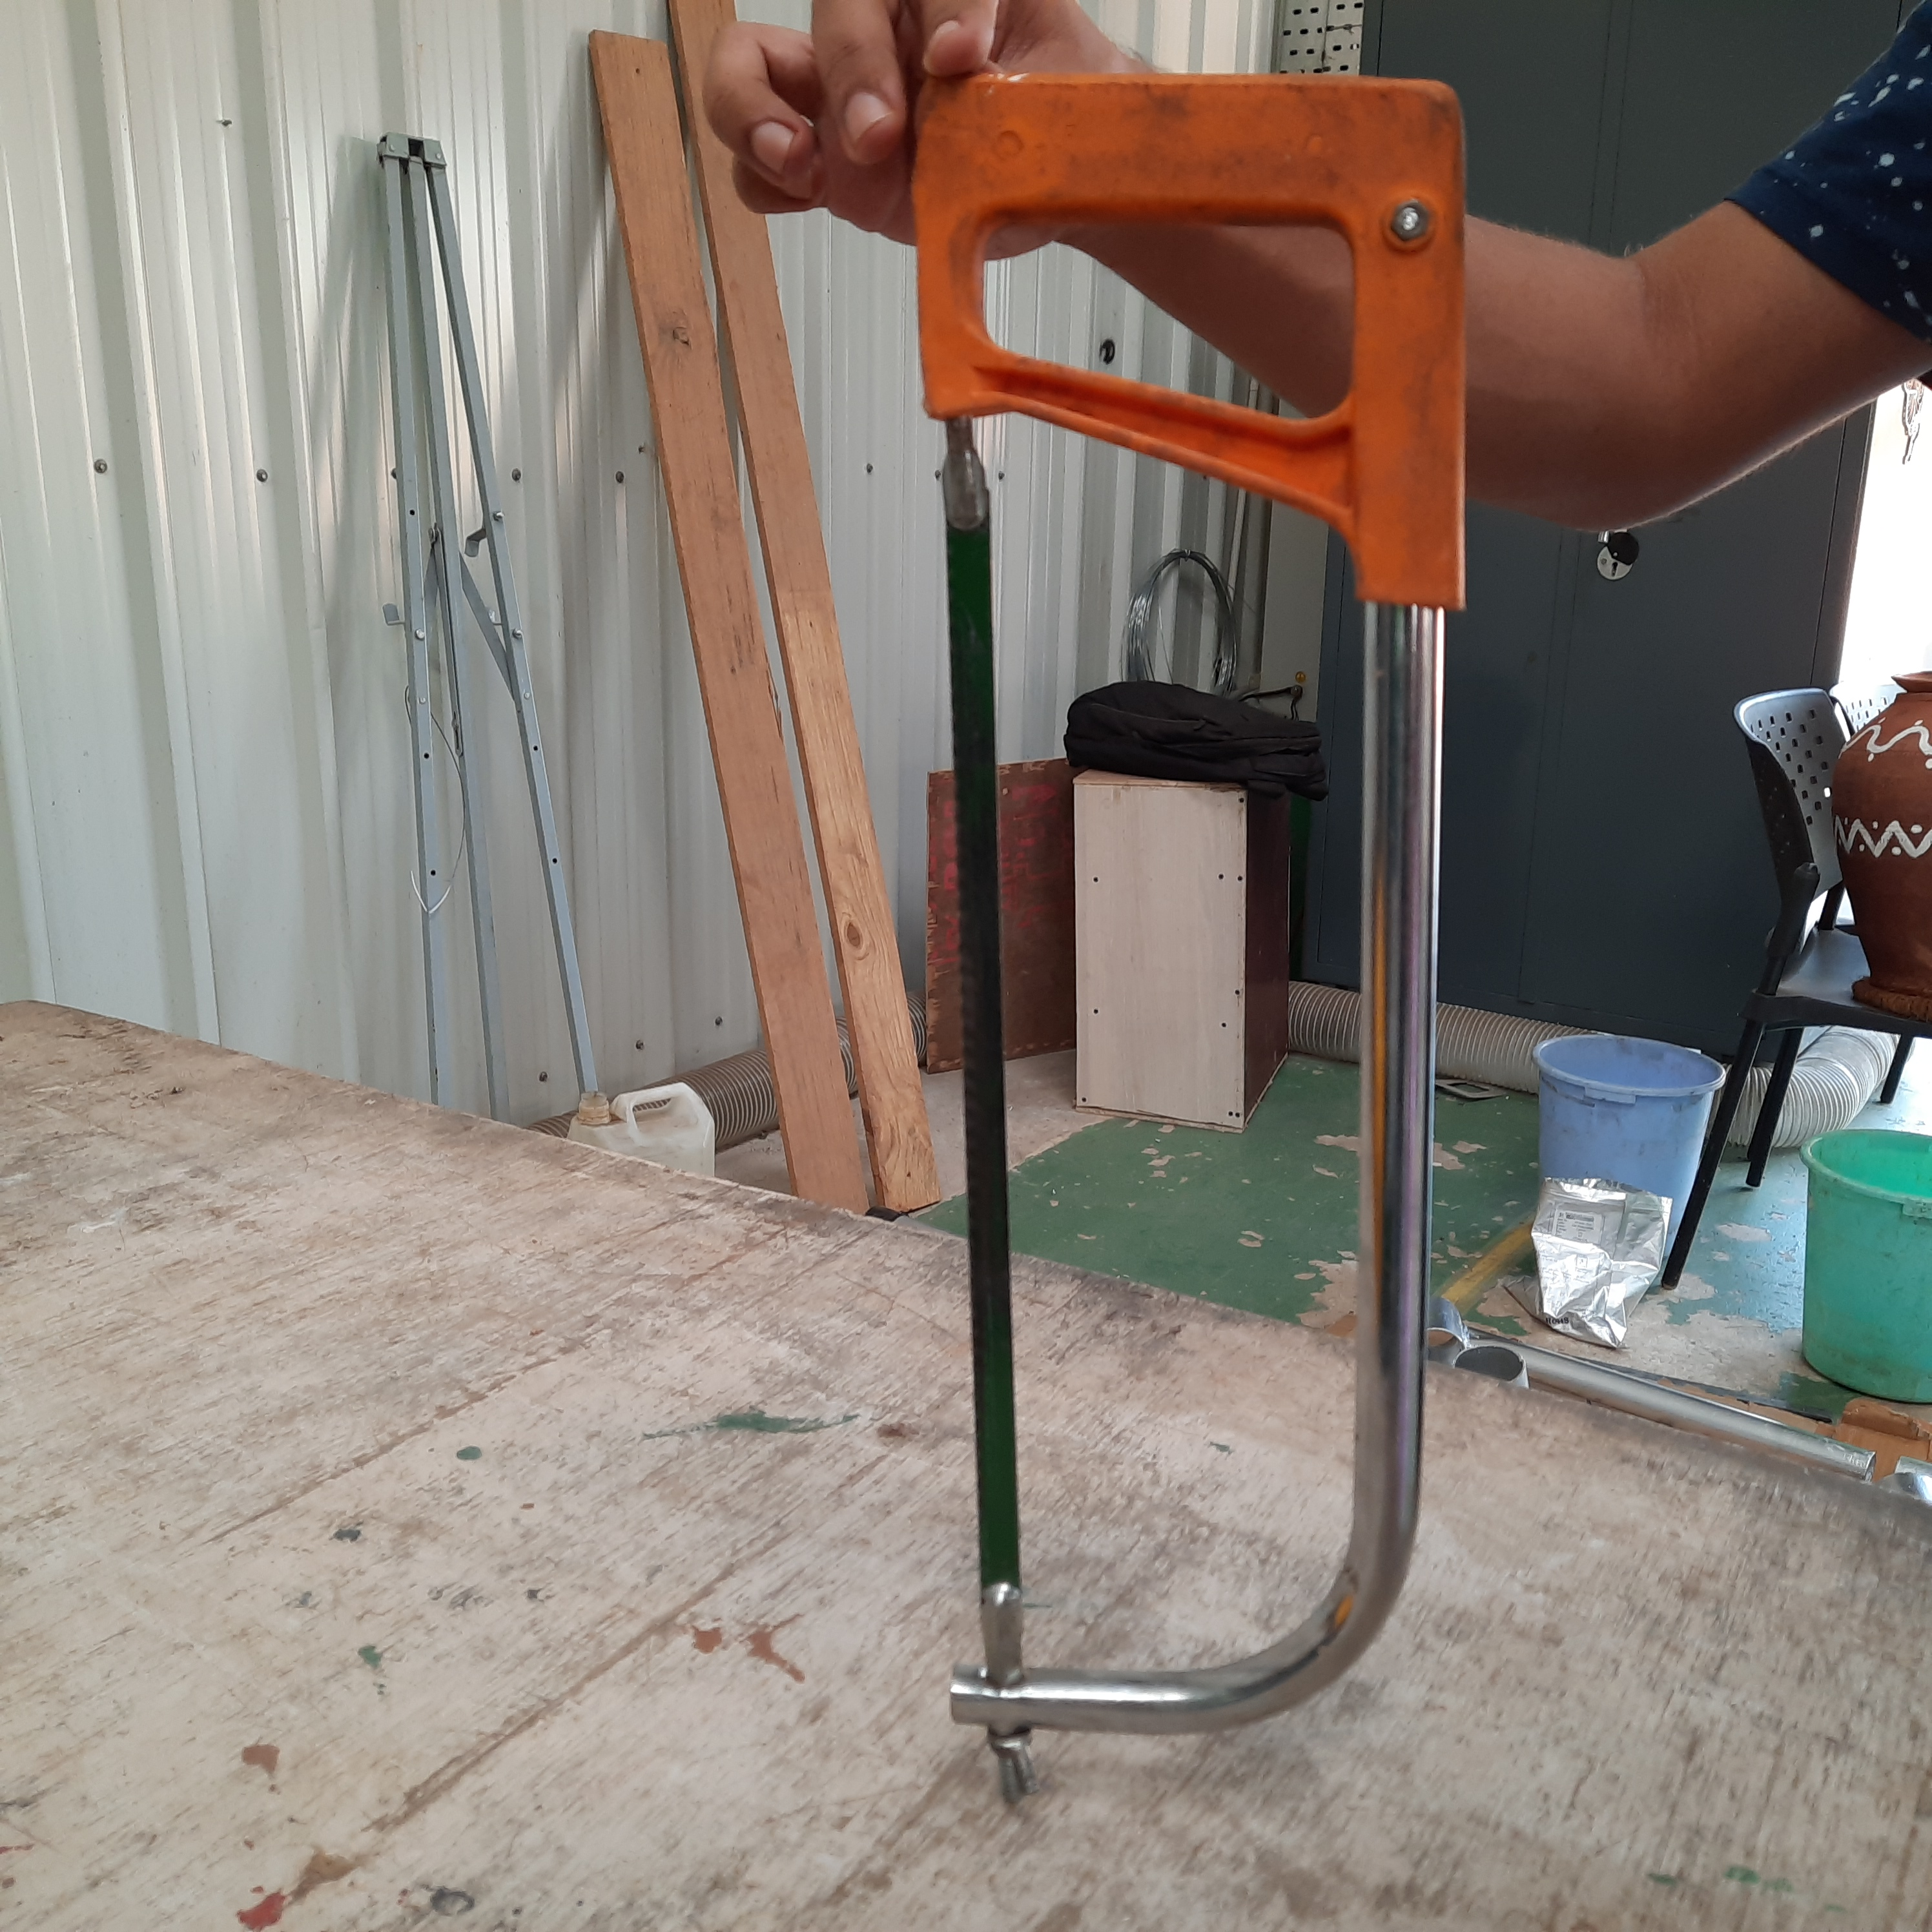Hexaframe: (890, 55, 1576, 1748)
